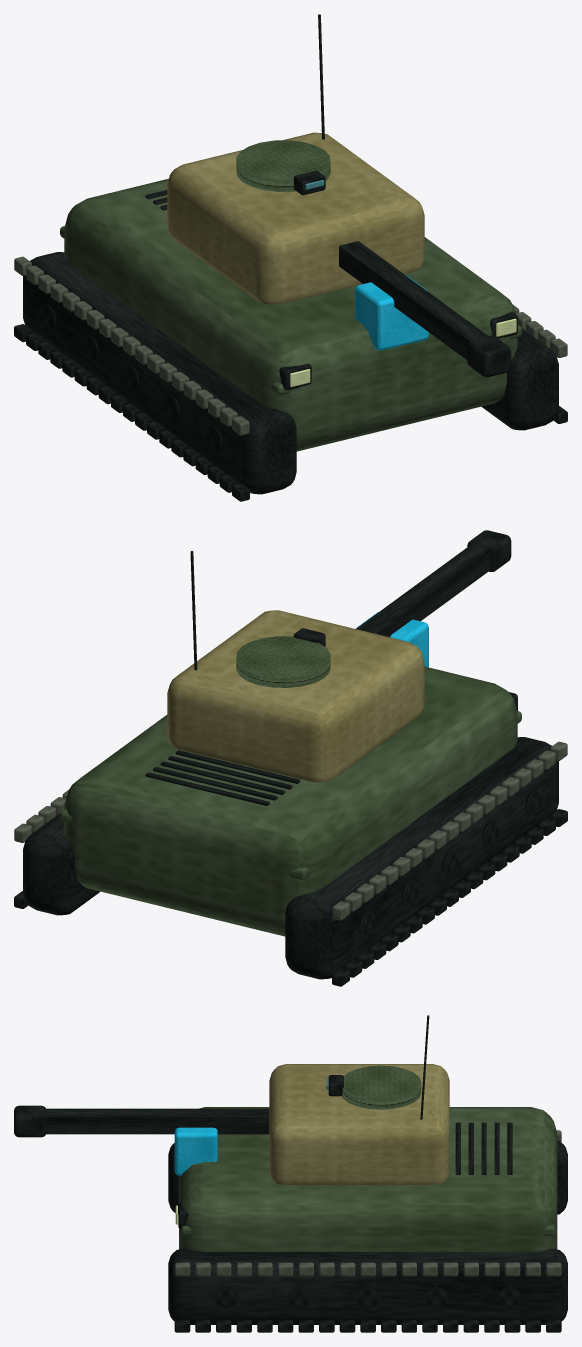
The model's file is laserTank.glb.
3 renders of one model, top to bottom at view 1: azimuth 30°, elevation 25°; view 2: azimuth 150°, elevation 25°; view 3: azimuth 270°, elevation 25°, orthographic. The views are drawn at different scales.
Visible parts, largest first — view 1: Hull.001, Turret.001, Track.002, Cannon.001, Track.003, Hatch.001, Laser aperture, Muzzle brake.001; view 2: Hull.001, Turret.001, Track.002, Track.003, Cannon.001, Hatch.001, Muzzle brake.001, Laser aperture, Engine grille.007, Engine grille.010, Engine grille.008, Engine grille.009 (+1 smaller); view 3: Hull.001, Track.003, Turret.001, Cannon.001, Hatch.001, Laser aperture, Track.002, Muzzle brake.001, Wheel hub.015, Wheel hub.016, Wheel hub.017, Wheel hub.018 (+1 smaller).
Part boxes in pixels (left/top/right/bottom): Hull.001: left=64, top=178, right=517, bottom=451; Turret.001: left=167, top=132, right=424, bottom=304; Track.002: left=23, top=252, right=296, bottom=494; Cannon.001: left=339, top=241, right=487, bottom=359; Track.003: left=481, top=328, right=558, bottom=430; Hatch.001: left=236, top=140, right=330, bottom=191; Laser aperture: left=355, top=274, right=428, bottom=350; Muzzle brake.001: left=467, top=335, right=511, bottom=377; Hull.001: left=64, top=666, right=517, bottom=936; Turret.001: left=167, top=610, right=424, bottom=782; Track.002: left=285, top=737, right=558, bottom=979; Track.003: left=23, top=813, right=100, bottom=915; Cannon.001: left=356, top=545, right=489, bottom=637; Hatch.001: left=236, top=636, right=330, bottom=687; Muzzle brake.001: left=467, top=530, right=511, bottom=571; Laser aperture: left=356, top=612, right=428, bottom=667; Engine grille.007: left=175, top=750, right=300, bottom=783; Engine grille.010: left=153, top=767, right=277, bottom=800; Engine grille.008: left=168, top=755, right=292, bottom=789; Engine grille.009: left=160, top=761, right=285, bottom=794; Hull.001: left=179, top=1107, right=557, bottom=1251; Track.003: left=168, top=1248, right=567, bottom=1324; Turret.001: left=269, top=1064, right=449, bottom=1184; Cannon.001: left=46, top=1108, right=269, bottom=1134; Hatch.001: left=342, top=1065, right=421, bottom=1109; Laser aperture: left=174, top=1127, right=217, bottom=1175; Track.002: left=168, top=1140, right=567, bottom=1214; Muzzle brake.001: left=14, top=1105, right=46, bottom=1137; Wheel hub.015: left=215, top=1286, right=237, bottom=1308; Wheel hub.016: left=288, top=1286, right=310, bottom=1308; Wheel hub.017: left=357, top=1286, right=379, bottom=1308; Wheel hub.018: left=425, top=1286, right=447, bottom=1308.
Bounding box in the file's own units: 3.76 × 3.54 × 6.45.
7 materials, 6 textured.
